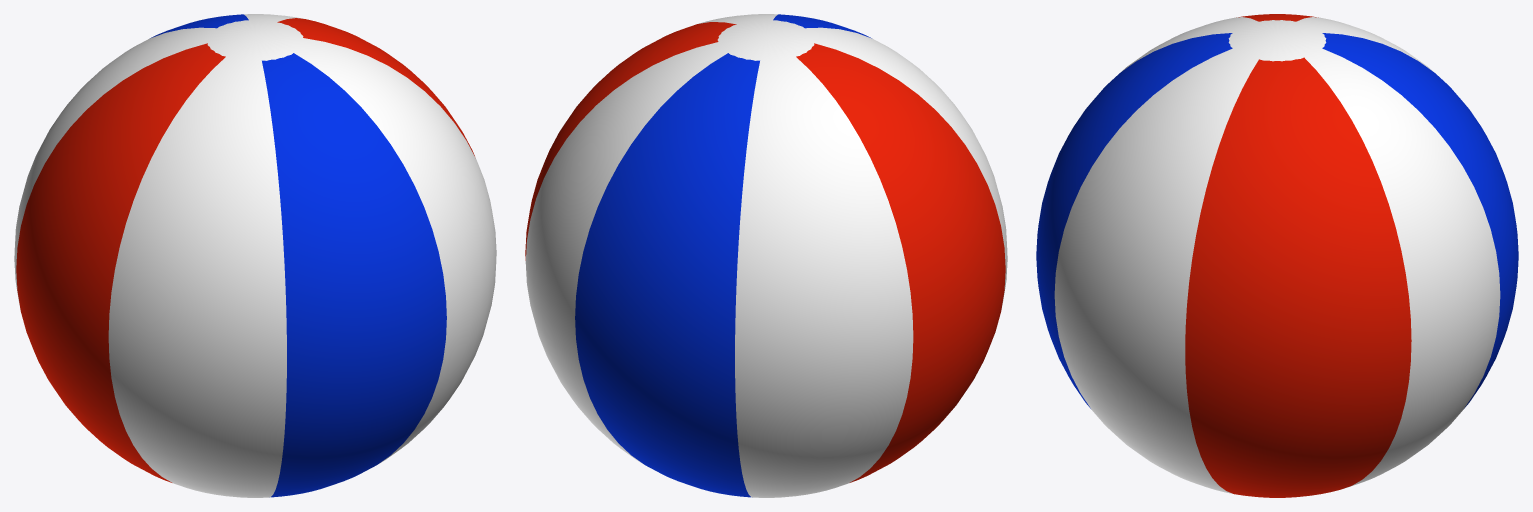
File: beachball.glb
3 views of the same model, side by side, from view 1: azimuth 30°, elevation 25°; view 2: azimuth 150°, elevation 25°; view 3: azimuth 270°, elevation 25° (orthographic).
Parts seen in each view (by area): view 1: Sphere; view 2: Sphere; view 3: Sphere.
Boxes of the visible parts, x1,y1,x2,y2 form: Sphere: (14, 14, 496, 497); Sphere: (525, 14, 1007, 497); Sphere: (1036, 14, 1518, 497).
Bounding box in the file's own units: 1.98 × 2 × 1.98.
